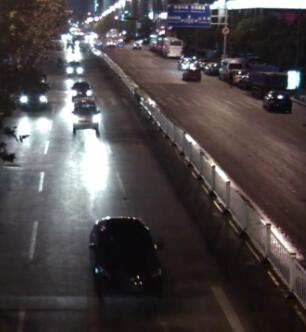bus: (159, 33, 184, 60)
car: (88, 213, 168, 301), (69, 95, 104, 138), (15, 71, 49, 114), (259, 86, 295, 115), (71, 79, 94, 100), (179, 65, 204, 84), (220, 56, 239, 78), (64, 61, 86, 79), (229, 65, 249, 84)
